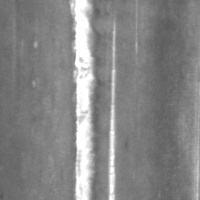scratches: (67, 0, 101, 199), (106, 11, 118, 199)
